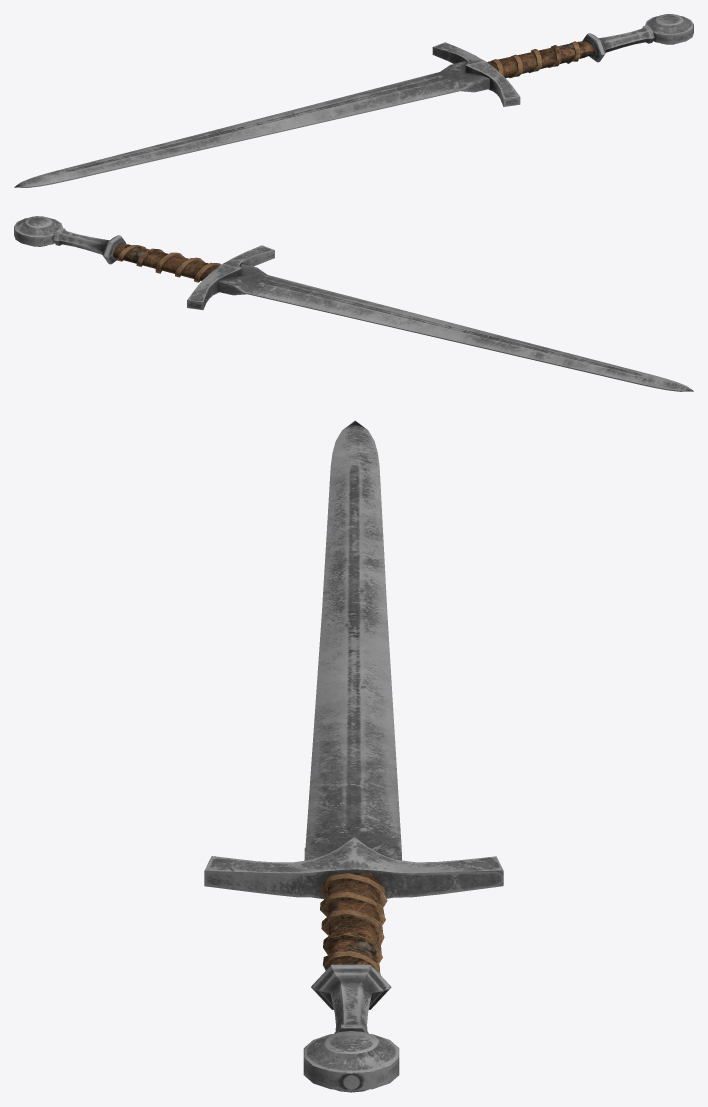
File: medieval_sword.glb
The picture shows the model from 3 angles, top to bottom: view 1: azimuth 30°, elevation 25°; view 2: azimuth 150°, elevation 25°; view 3: azimuth 270°, elevation 25°; orthographic projection. The views are drawn at different scales.
Visible parts, largest first — view 1: Low; view 2: Low; view 3: Low.
Boxes of the visible parts, left/top/right/bottom form: Low: left=14, top=14, right=693, bottom=187; Low: left=14, top=216, right=693, bottom=391; Low: left=204, top=420, right=503, bottom=1092.
Bounding box in the file's own units: 2 × 0.0705 × 0.3832.
1 material, 1 textured.
